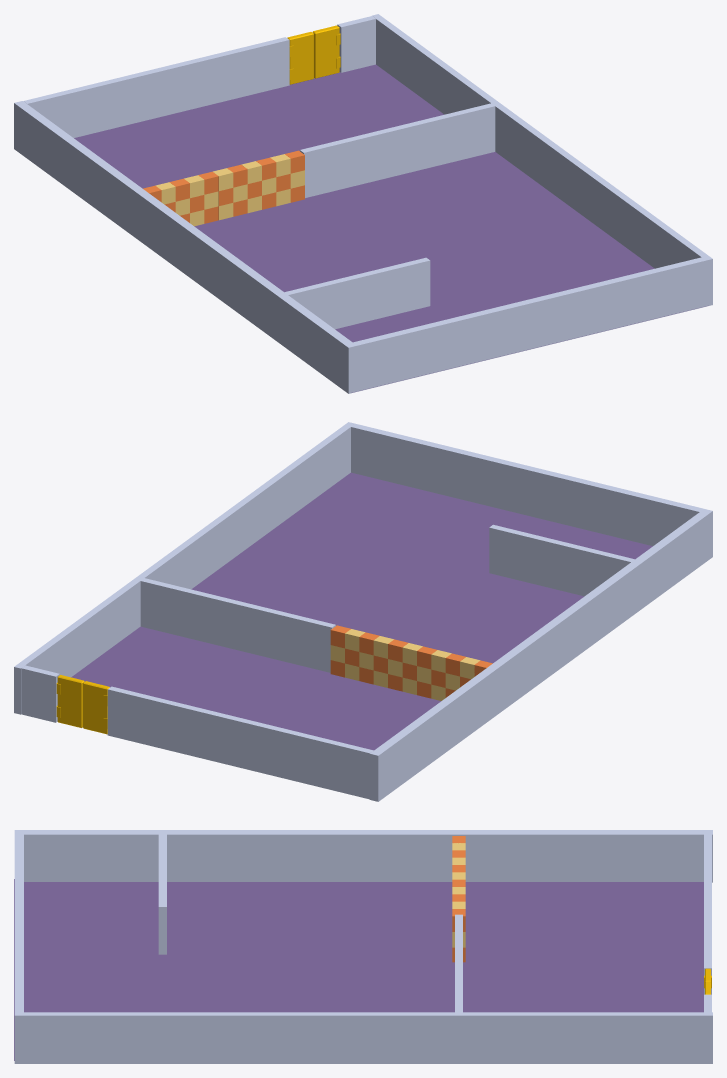
Rendered from maps32.fbx.
The picture shows the model from 3 angles, top to bottom: view 1: azimuth 30°, elevation 25°; view 2: azimuth 150°, elevation 25°; view 3: azimuth 270°, elevation 25°; orthographic projection. The views are drawn at different scales.
Parts seen in each view (by area): view 1: wall_01_08_geo, wall_01_07_geo, wall_01_05_geo, wall_01_06_geo, wall_01_09_geo, wall_01_09_geo2, wall_01_09_geo5, wall_01_09_geo7, polySurface161, polySurface165; view 2: wall_01_08_geo, wall_01_07_geo, wall_01_05_geo, wall_01_06_geo, wall_01_09_geo, wall_01_09_geo2, wall_01_09_geo5, wall_01_09_geo7, polySurface161, polySurface165; view 3: wall_01_08_geo, wall_01_06_geo, wall_01_07_geo, wall_01_05_geo, wall_01_09_geo, wall_01_09_geo5, wall_01_09_geo2.
Boxes of the visible parts, x1,y1,x2,y2 form: wall_01_08_geo: [74, 64, 708, 392]; wall_01_07_geo: [14, 101, 357, 393]; wall_01_05_geo: [353, 257, 706, 391]; wall_01_06_geo: [372, 14, 712, 306]; wall_01_09_geo: [23, 37, 289, 137]; wall_01_09_geo2: [300, 103, 495, 197]; wall_01_09_geo5: [284, 257, 430, 329]; wall_01_09_geo7: [337, 16, 375, 72]; polySurface161: [312, 25, 340, 78]; polySurface165: [287, 32, 313, 84]; wall_01_08_geo: [71, 472, 652, 750]; wall_01_07_geo: [369, 509, 712, 801]; wall_01_05_geo: [351, 423, 703, 545]; wall_01_06_geo: [14, 422, 354, 714]; wall_01_09_geo: [107, 686, 373, 799]; wall_01_09_geo2: [140, 578, 335, 672]; wall_01_09_geo5: [489, 524, 634, 596]; wall_01_09_geo7: [21, 665, 59, 722]; polySurface161: [56, 675, 84, 727]; polySurface165: [83, 681, 109, 734]; wall_01_08_geo: [14, 879, 703, 1060]; wall_01_06_geo: [14, 1012, 712, 1063]; wall_01_07_geo: [14, 830, 712, 882]; wall_01_05_geo: [14, 834, 23, 1012]; wall_01_09_geo: [704, 834, 711, 994]; wall_01_09_geo5: [158, 834, 166, 954]; wall_01_09_geo2: [455, 914, 462, 1012].
Bounding box in the file's own units: 73.34 × 8.96 × 117.
Materials: 3 (3 with a texture image).
